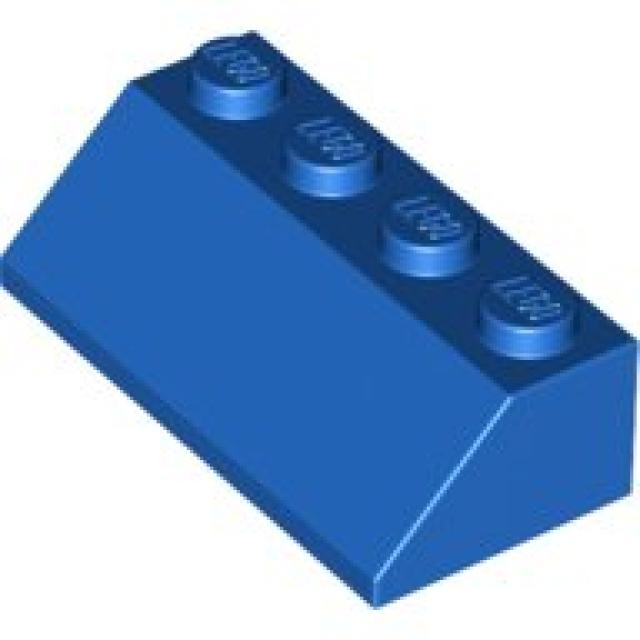Blue_Large: (0, 30, 640, 610)
